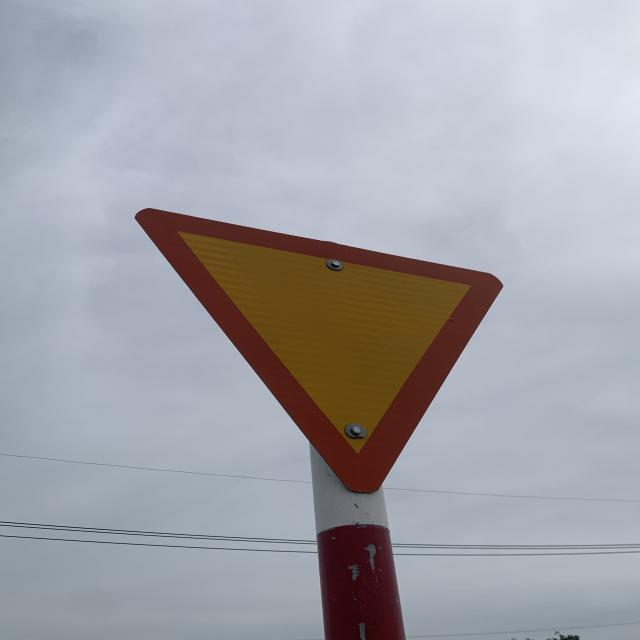Gioi_Han_Toc_Do_25: (132, 206, 506, 496)
